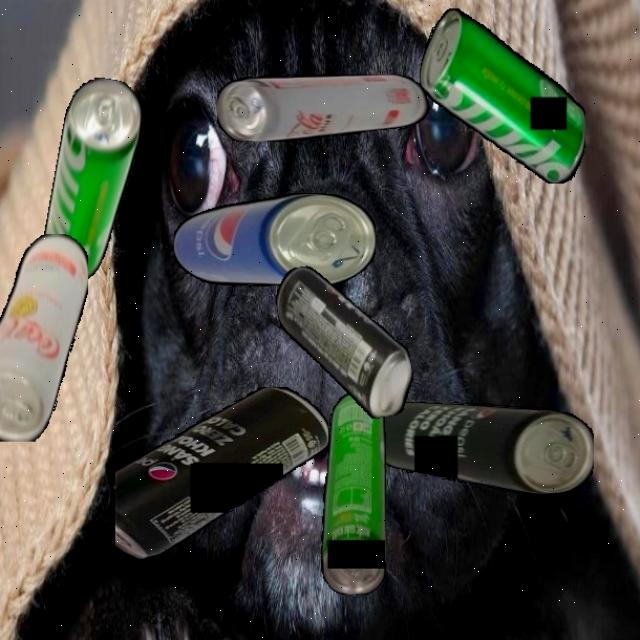debris: (114, 387, 328, 559), (418, 7, 586, 184), (272, 252, 418, 431), (38, 74, 148, 286), (369, 402, 594, 494), (173, 193, 376, 286), (0, 233, 88, 442), (217, 74, 432, 142), (320, 391, 386, 595)
